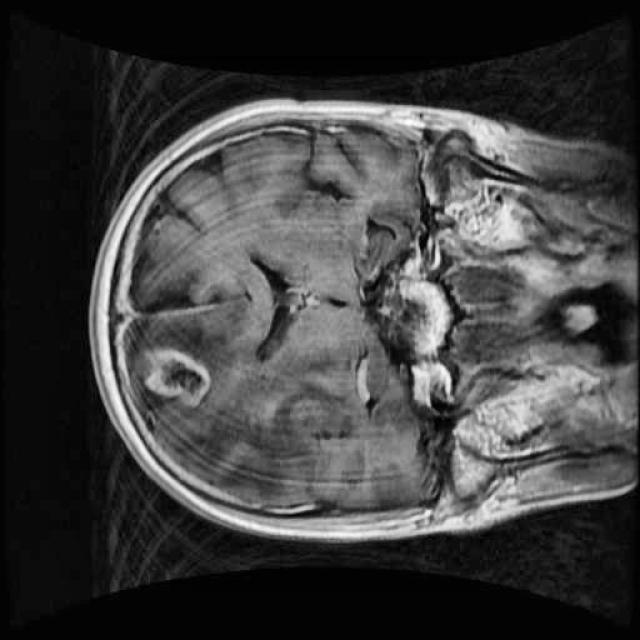Tumor: (136, 328, 226, 418)
